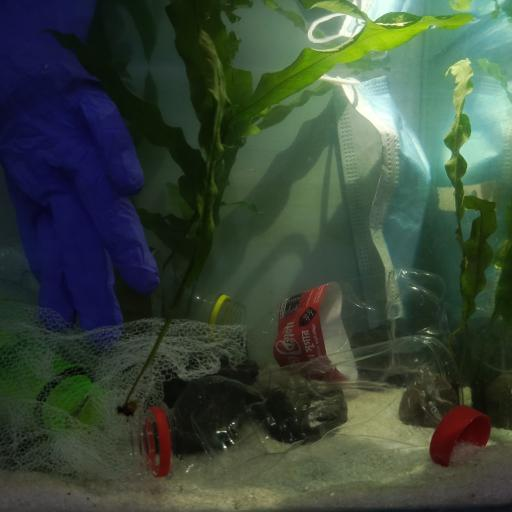bottle_cap: (428, 402, 490, 468)
glove: (2, 22, 165, 344)
mask: (318, 65, 430, 327)
net: (0, 303, 252, 490)
plastic_bottle: (123, 333, 469, 484), (248, 275, 444, 378), (0, 324, 103, 429), (176, 286, 242, 328)
